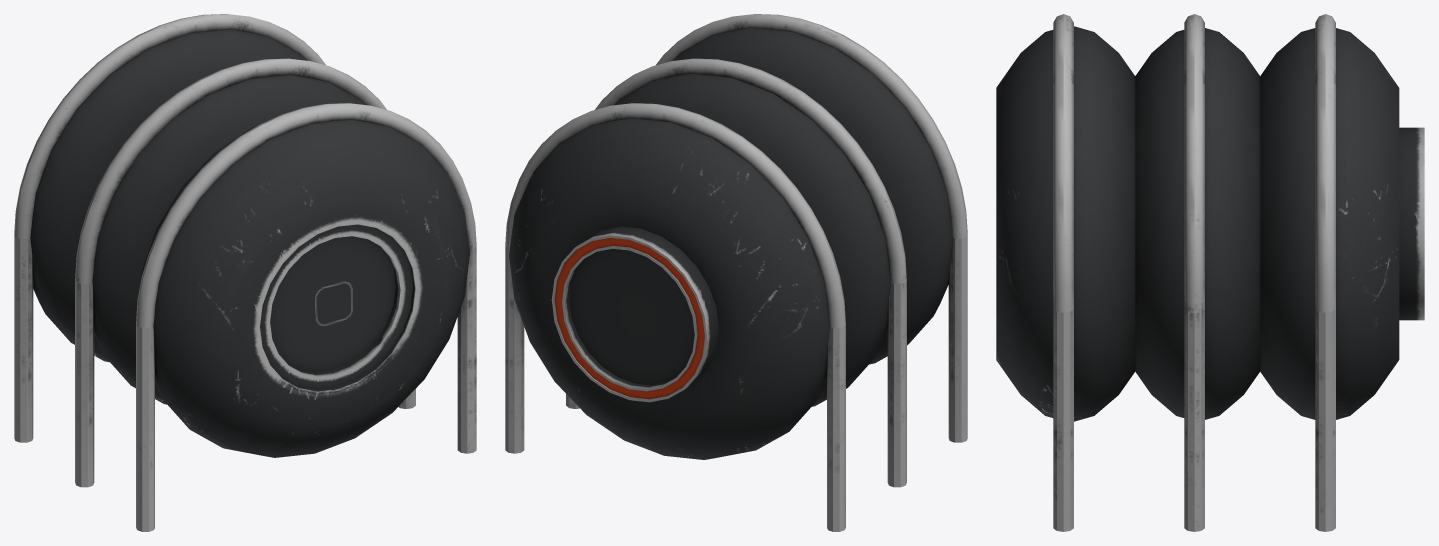
The model's file is Barrel.fbx.
3 views of the same model, side by side, from view 1: azimuth 30°, elevation 25°; view 2: azimuth 150°, elevation 25°; view 3: azimuth 270°, elevation 25° (orthographic). The views are drawn at different scales.
Parts seen in each view (by area): view 1: Barrel; view 2: Barrel; view 3: Barrel.
Part boxes in pixels (x1,y1,x2,y2): Barrel: (14,14,476,531); Barrel: (505,14,967,531); Barrel: (996,14,1424,531).
Size of the model in its own units: 2.37 by 2.54 by 2.41.
